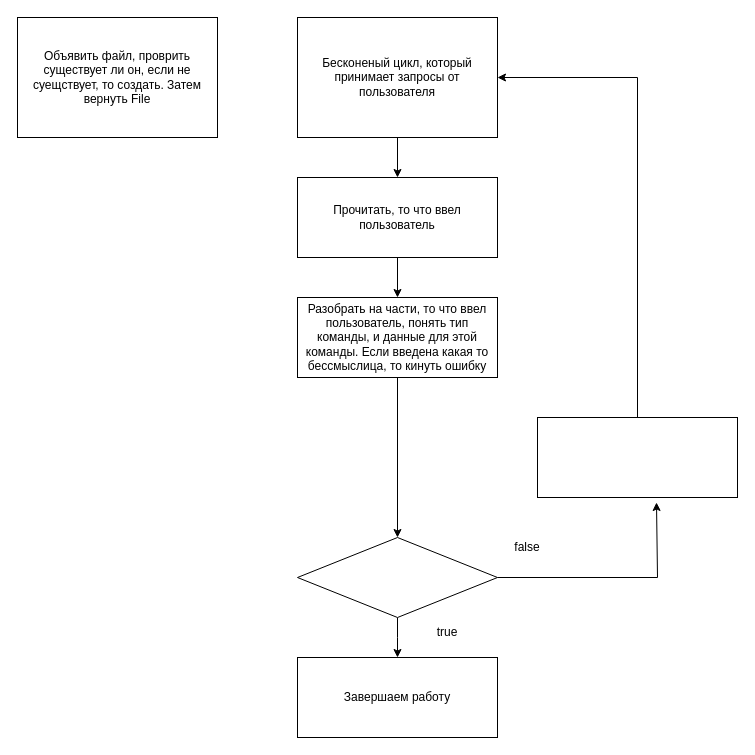
Image size: 755x755. Some labels were removed from this diagram. Here are the shapes that lost their labels. From the top down, the centre of each, then its label:
At [637,457]: "Исполнить команду".
At [397,577]: "если команда exit".
